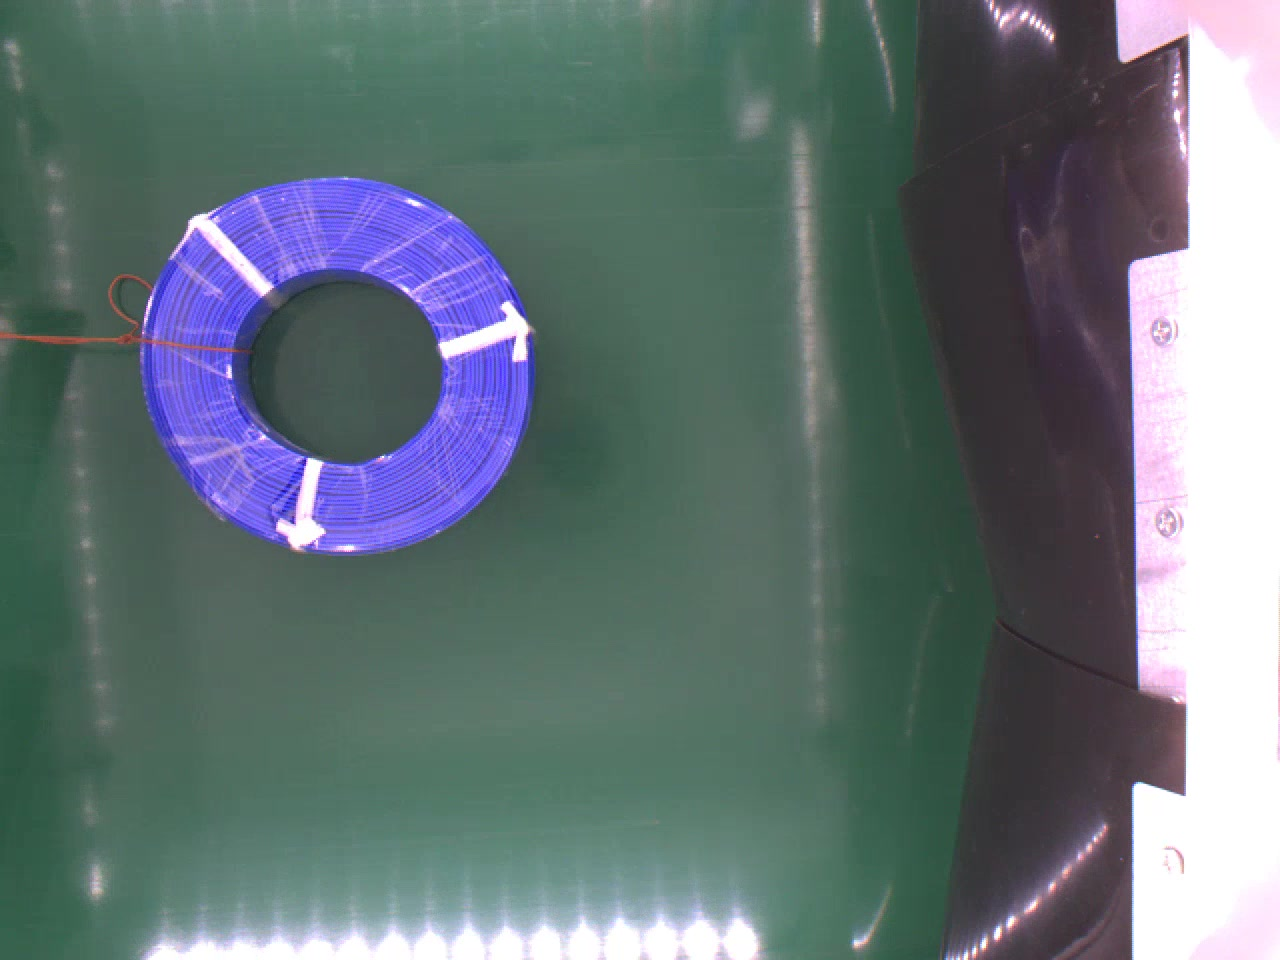blue: (138, 177, 531, 549)
